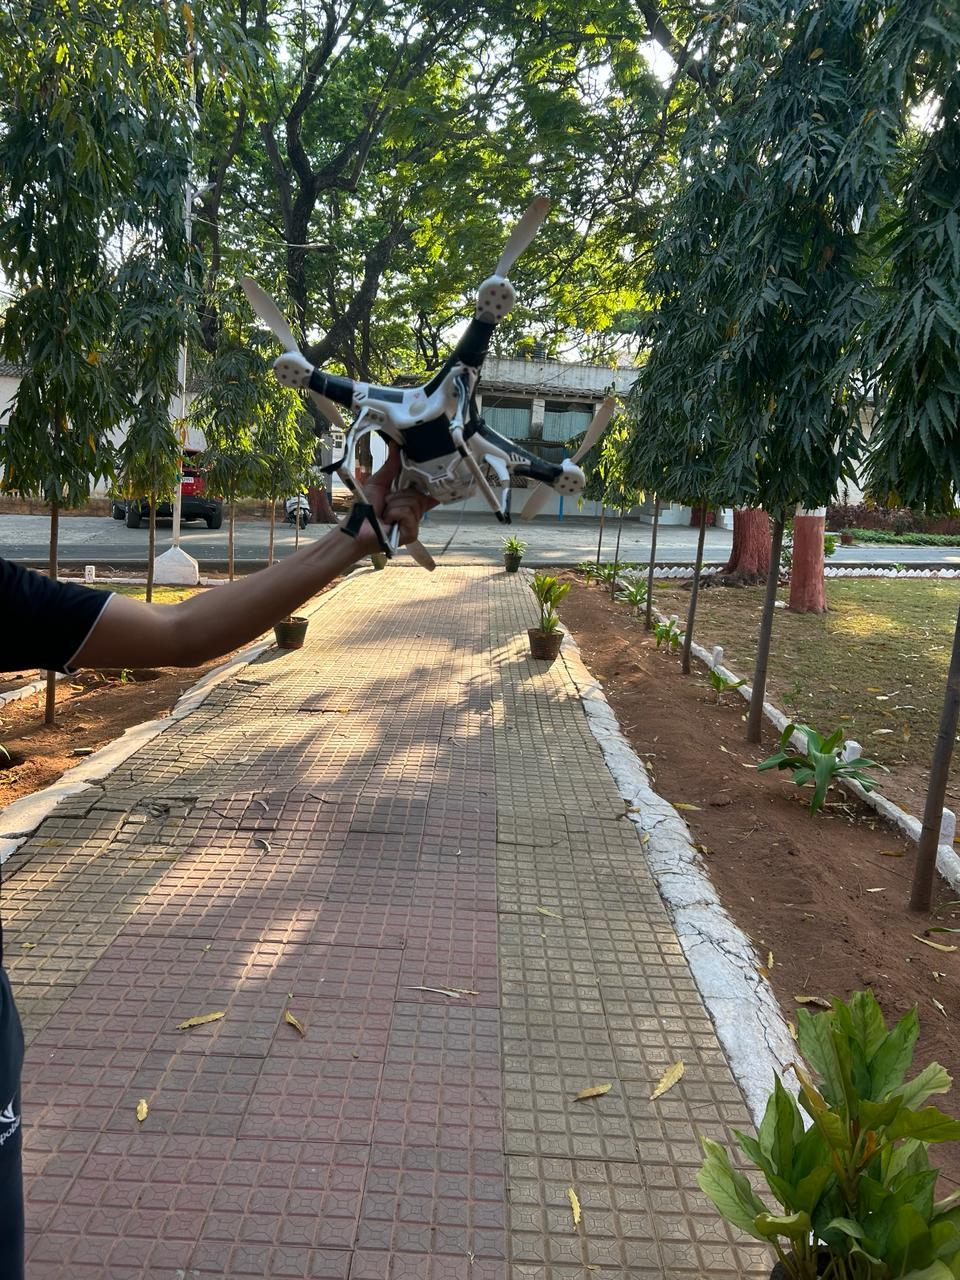drone: (214, 187, 663, 554)
